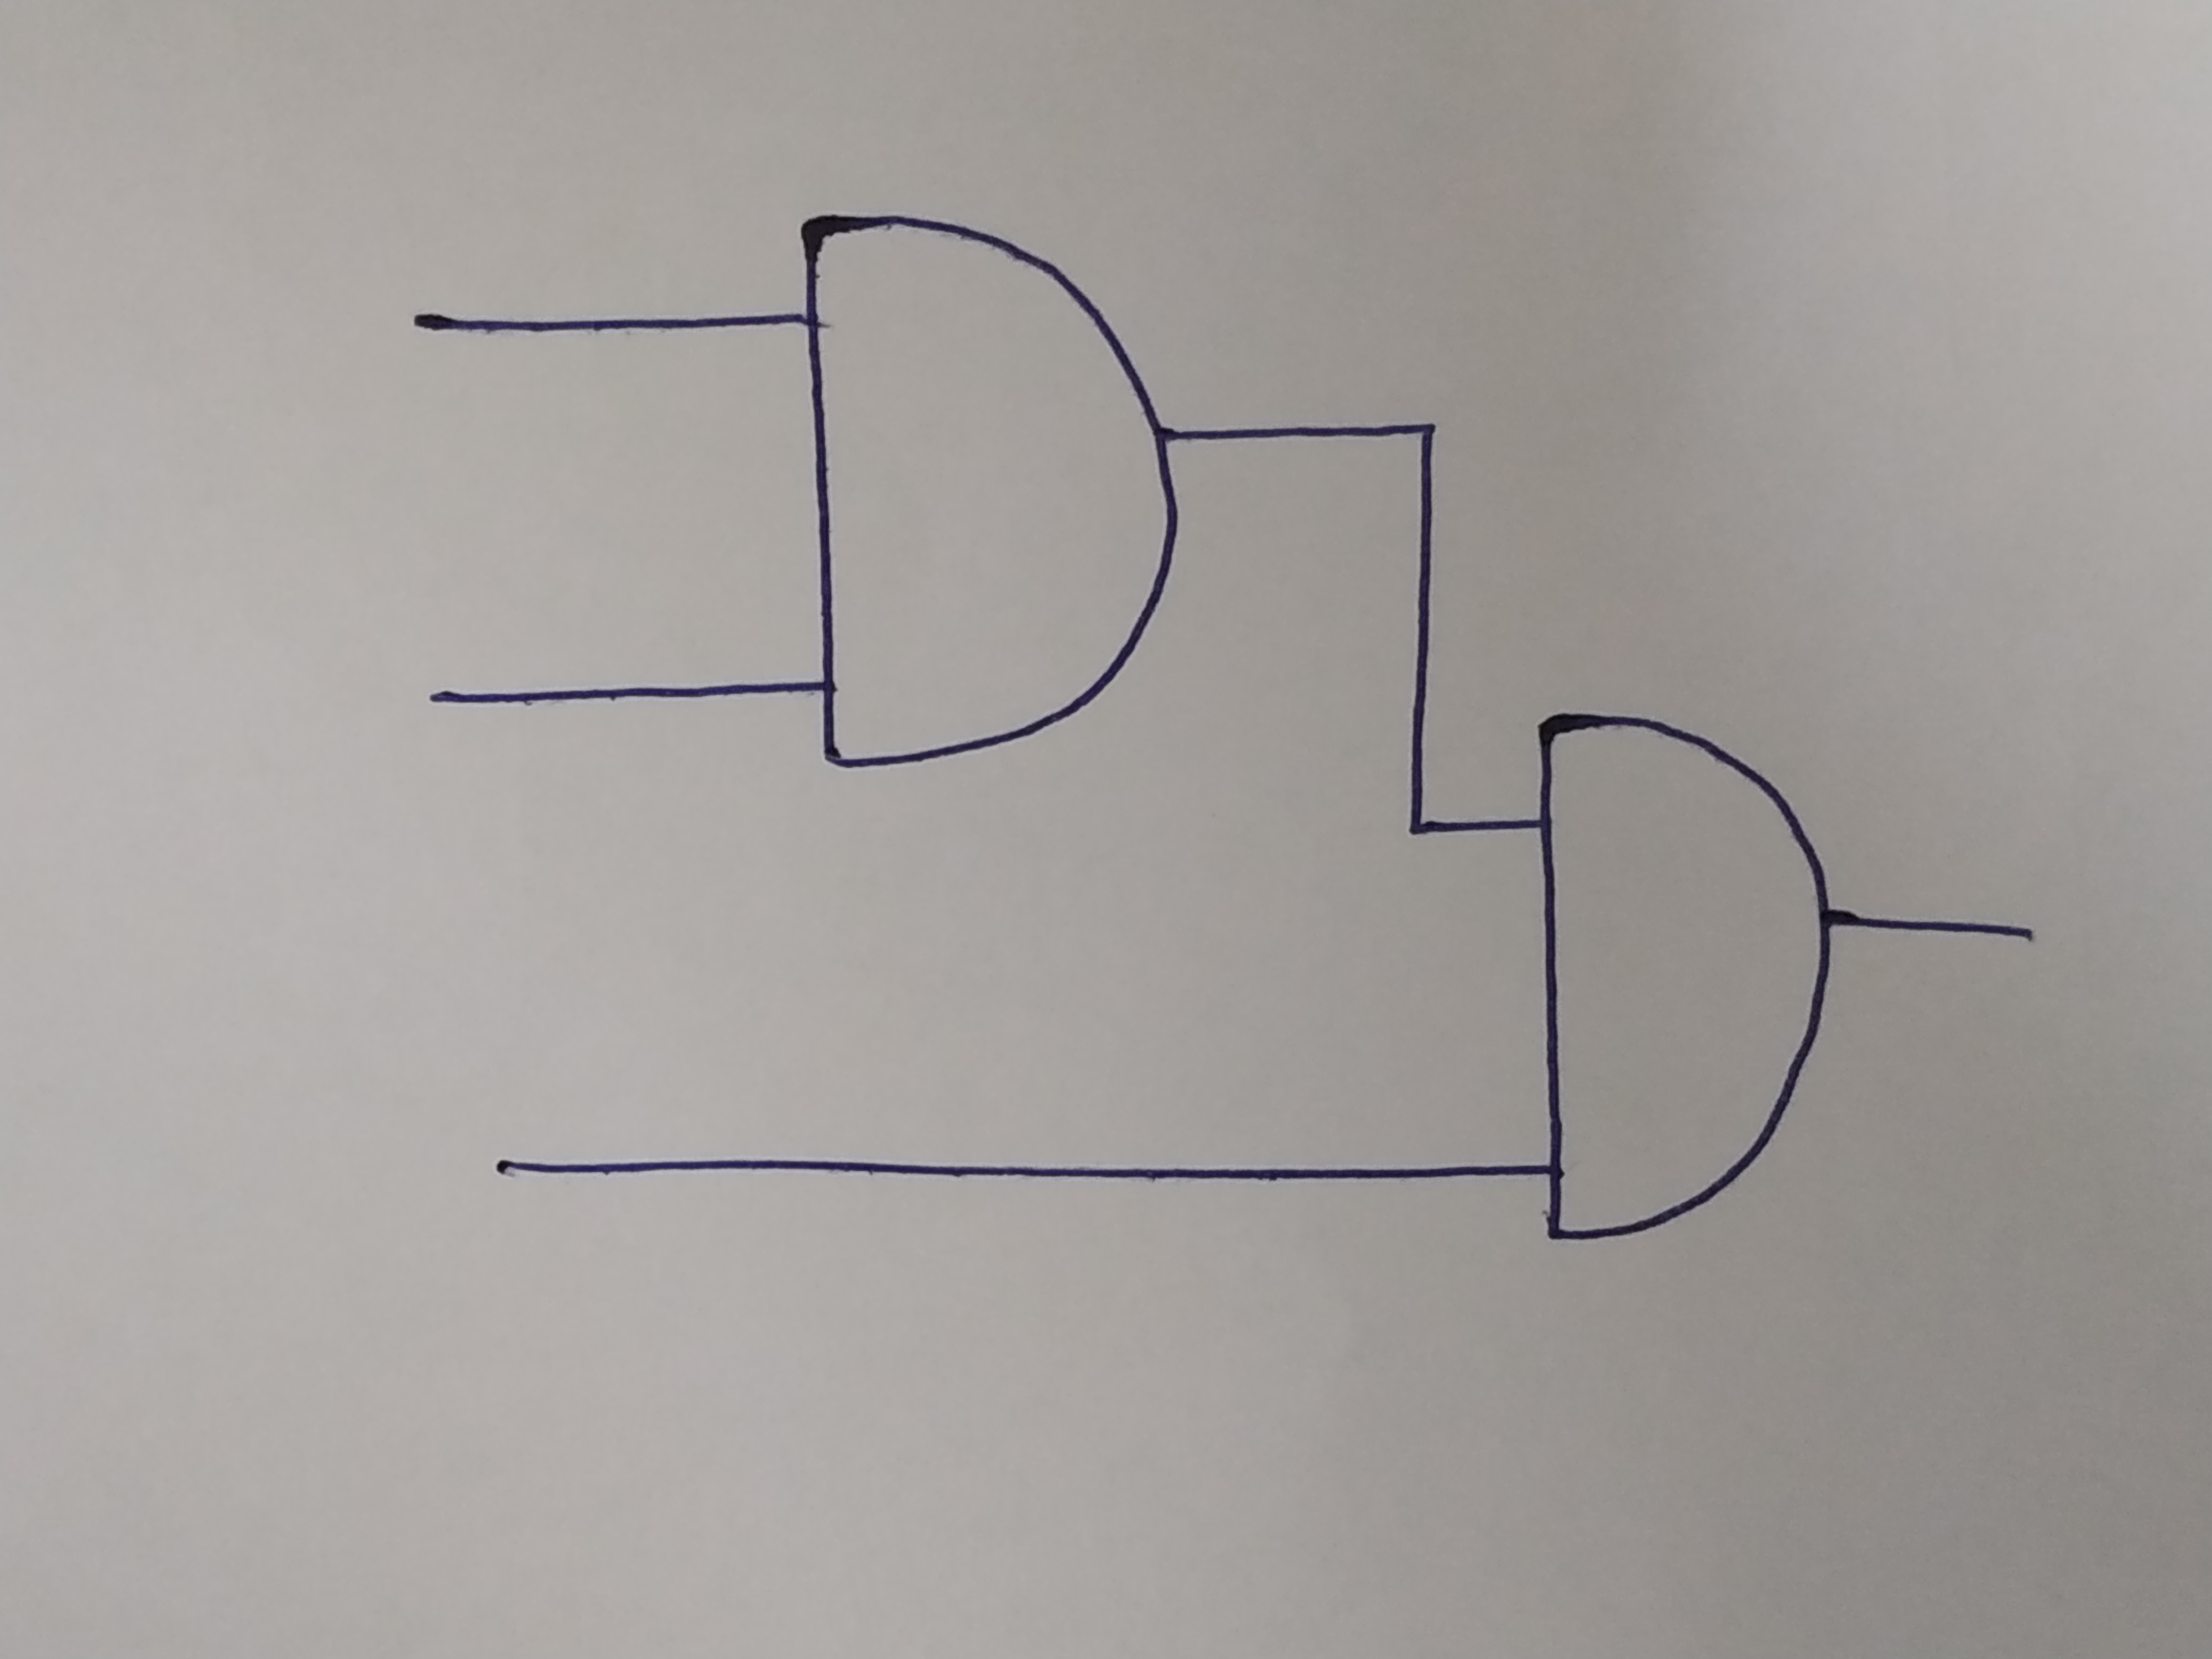and: (808, 209, 1170, 762), (1536, 718, 1825, 1237)
